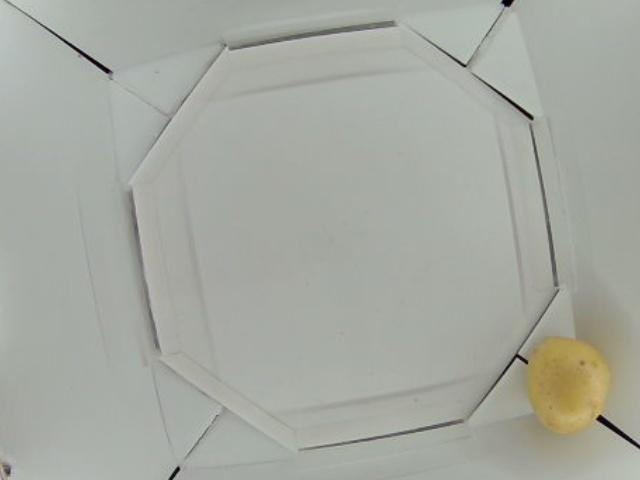Potato: (522, 335, 612, 434)
